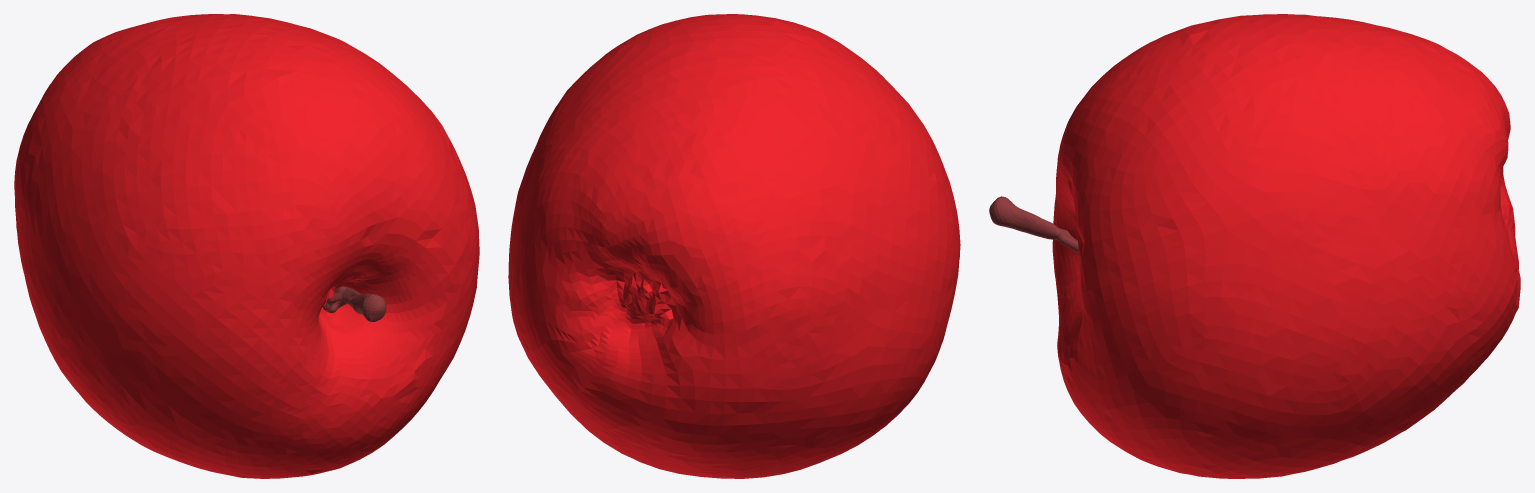
Rendered from Appel.obj.
The picture shows the model from 3 angles, left to right: view 1: azimuth 30°, elevation 25°; view 2: azimuth 150°, elevation 25°; view 3: azimuth 270°, elevation 25°; orthographic projection. The views are drawn at different scales.
Visible parts, largest first — view 1: Object.1; view 2: Object.1; view 3: Object.1.
Boxes of the visible parts, x1=… form: Object.1: x1=14, y1=14, x2=479, y2=478; Object.1: x1=508, y1=14, x2=960, y2=478; Object.1: x1=989, y1=14, x2=1520, y2=478.
Bounding box in the file's own units: 66.34 × 68.57 × 77.26.
